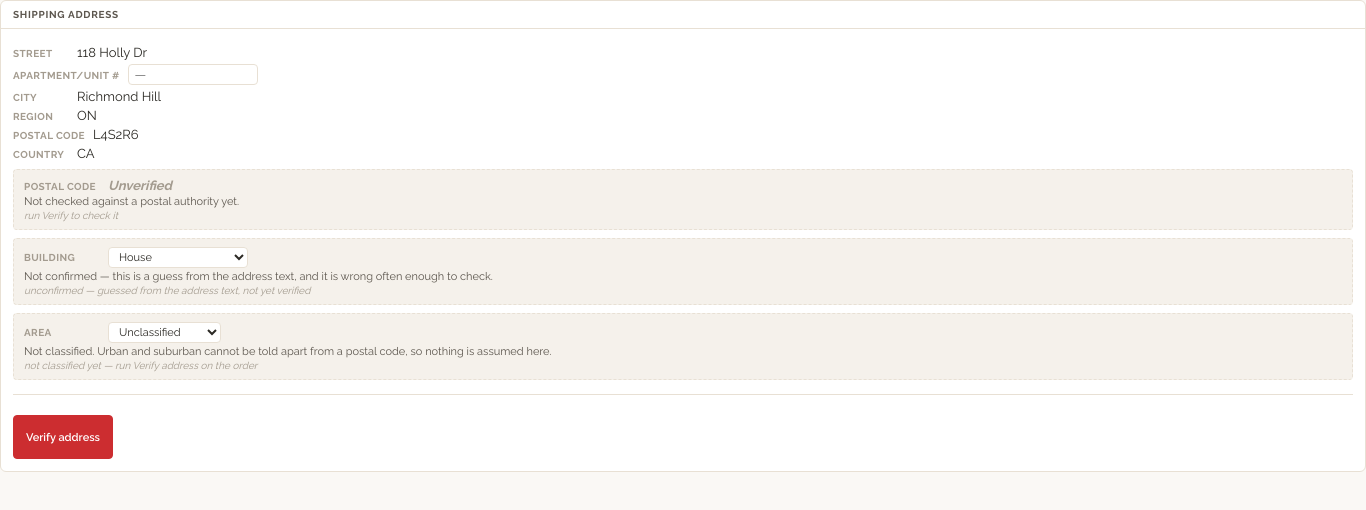
Test case: AddressCard — running a verify › says plainly when Google resolved the street but not the building
What coordinates should you click on to do the following:
click the button "Verify address"
I would click on:
 (63, 437)
Its box is x1=13 y1=415 x2=113 y2=459.
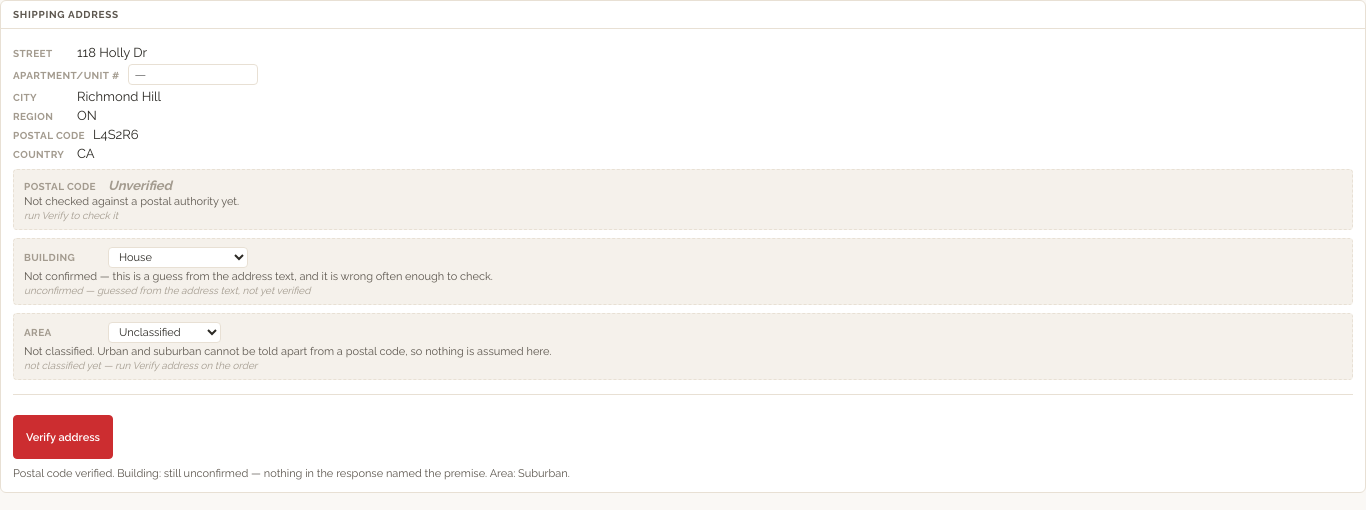
Expected: the text "Building: still unconfirmed" is shown, x1=13 y1=467 x2=570 y2=480
